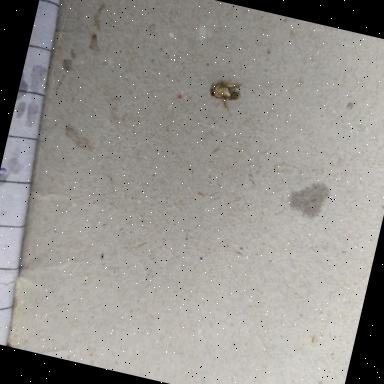pbw: (205, 77, 244, 118)
